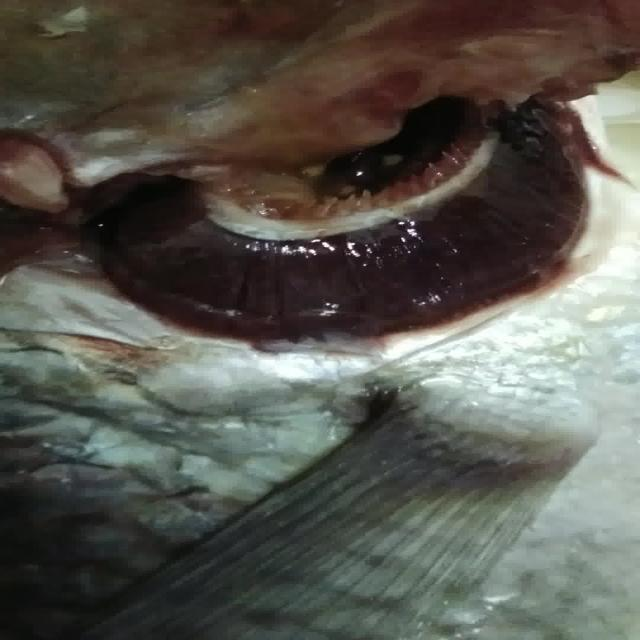Non-Fresh: (47, 59, 618, 381)
